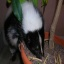skunk: (3, 3, 45, 58)
